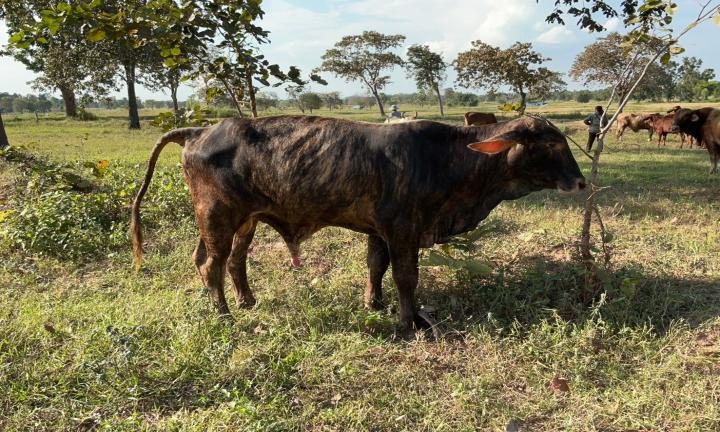Charolais: (131, 115, 584, 332)
